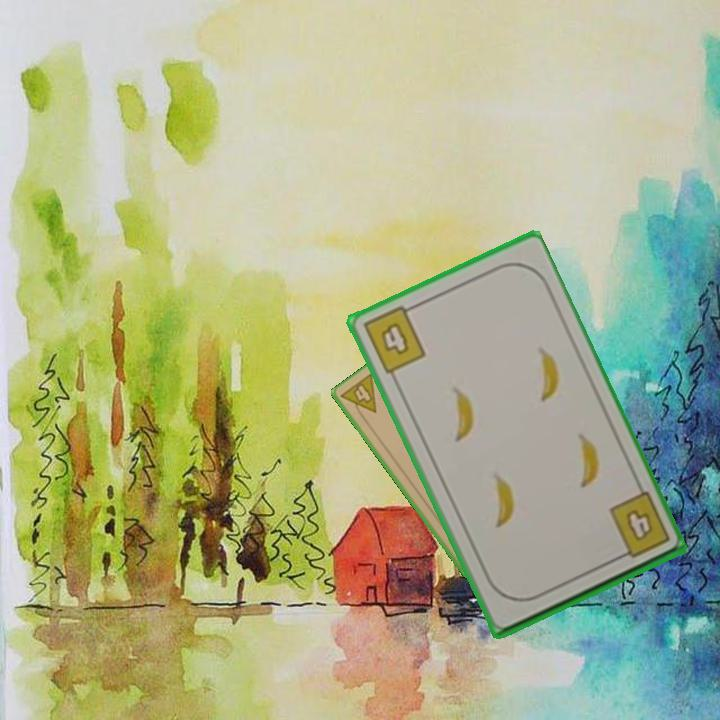4b: (359, 301, 429, 377), (605, 488, 673, 564)
4p: (337, 369, 379, 425)
